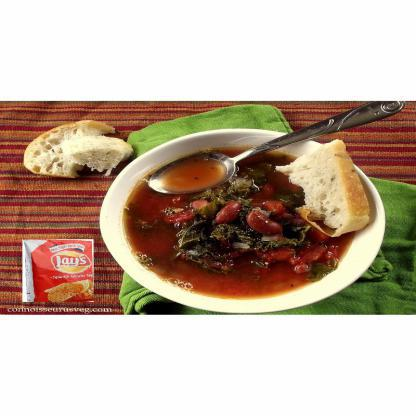tangy_tomato: (21, 238, 96, 308)
